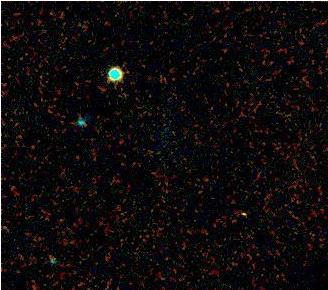star: (235, 195, 265, 225)
